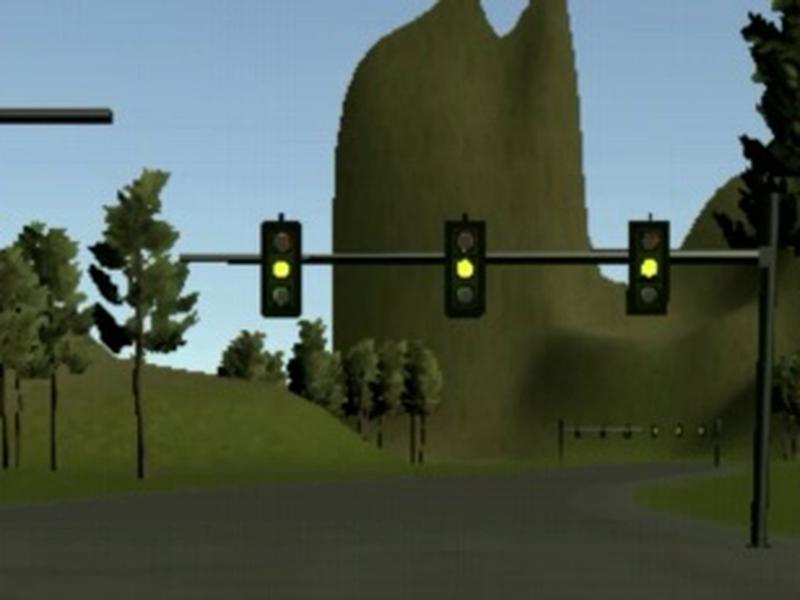Yellow: (625, 220, 670, 315), (259, 219, 302, 317), (444, 221, 487, 318)
